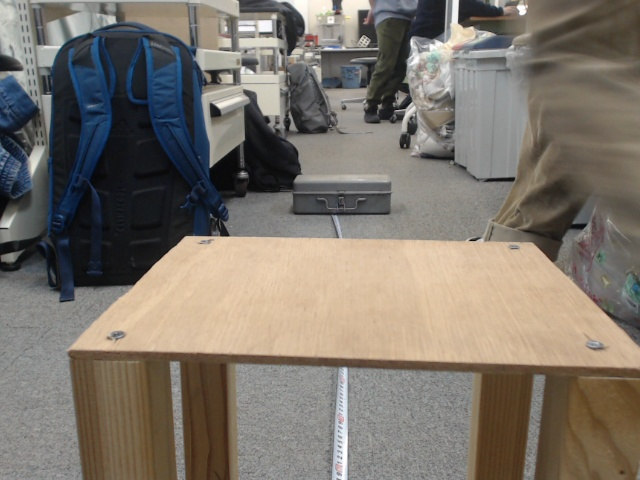desk: (285, 77, 516, 328)
